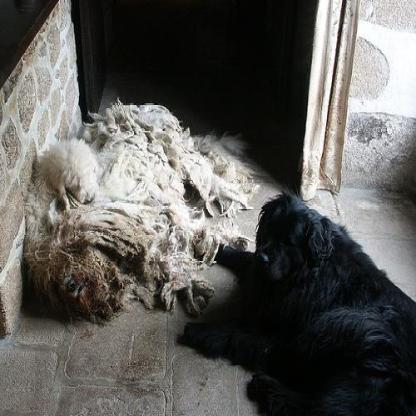komondor: (23, 99, 254, 323)
